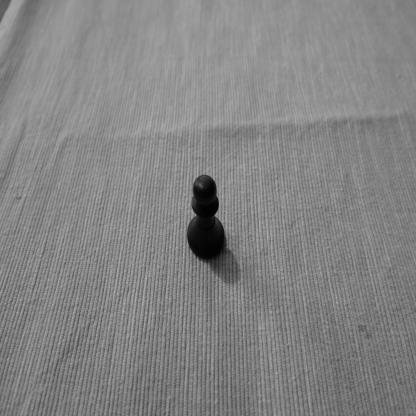white-king: (186, 174, 226, 263)
